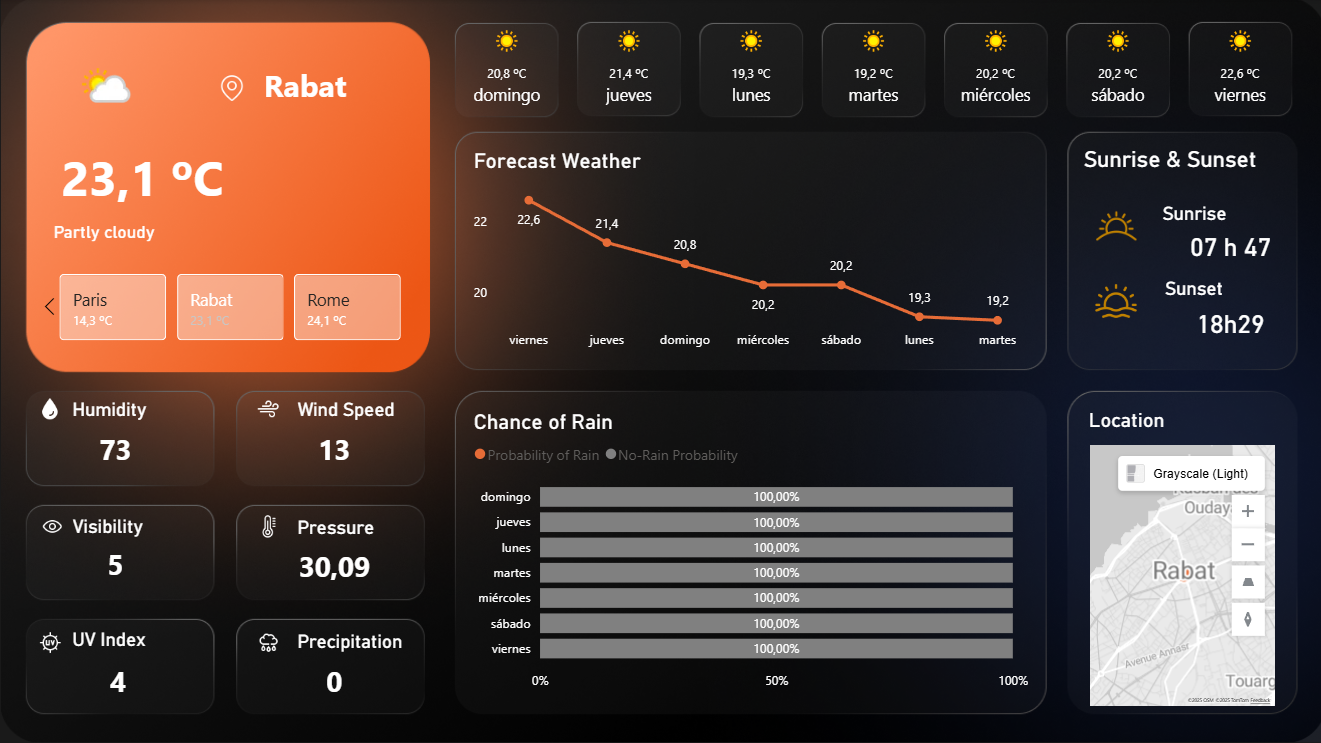

Layout of this report page (visuals, bound fields, positions):
{"tool":"powerbi","page":{"name":"Página 1","canvas":[1280,720],"ordinal":0},"visuals":[{"type":"advancedSlicerVisual","fields":{"Values":["Locations.location.name"],"Label":["_Measures.Curr_Temp_C"]},"box":[32.6,260.6,380,74.8],"z":0},{"type":"shape","box":[51.9,139.9,171.3,61.5],"z":1000},{"type":"shape","box":[51.9,214.7,171.3,26.5],"z":2000},{"type":"shape","box":[254.6,62.4,143.6,44.6],"z":3000},{"type":"image","box":[202.7,68.5,42.2,35],"z":4000},{"type":"cardVisual","fields":{"Data":["Min(Current.current.condition.icon)"]},"box":[32.6,27.7,123.1,123.1],"z":5000},{"type":"image","box":[27.4,494,45.3,31.6],"z":6000},{"type":"shape","title":"Humidity","box":[70,385.6,111.1,23.3],"z":7000},{"type":"image","box":[223.7,380.1,71.4,31.6],"z":8000},{"type":"image","box":[231.9,605.1,54.9,31.6],"z":9000},{"type":"image","box":[19.2,605.1,59,31.6],"z":10000},{"type":"image","box":[240.1,494,38.4,31.6],"z":11000},{"type":"image","box":[32.9,380.1,31.6,31.6],"z":12000},{"type":"shape","title":"Visibility","box":[70,498.1,111.1,23.3],"z":13000},{"type":"shape","title":"UV Index","box":[70,607.9,111.1,23.3],"z":14000},{"type":"shape","title":"Precipitation","box":[286.8,609.3,111.1,23.3],"z":15000},{"type":"shape","title":"Pressure","box":[286.8,499.5,111.1,23.3],"z":16000},{"type":"shape","title":"Wind Speed","box":[286.8,385.6,111.1,23.3],"z":17000},{"type":"card","fields":{"Values":["Sum(Current.current.humidity)"]},"box":[48.7,411.5,126.8,48.7],"z":18000},{"type":"card","fields":{"Values":["Sum(Current.current.wind_kph)"]},"box":[259.6,411.5,126.8,48.7],"z":19000},{"type":"card","fields":{"Values":["Sum(Current.current.vis_km)"]},"box":[48.7,522.1,126.8,48.7],"z":20000},{"type":"card","fields":{"Values":["Sum(Current.current.uv)"]},"box":[50.1,635.7,126.8,48.7],"z":21000},{"type":"card","fields":{"Values":["Sum(Current.current.precip_in)"]},"box":[259.6,635.7,126.8,48.7],"z":22000},{"type":"card","fields":{"Values":["Sum(Current.current.pressure_in)"]},"box":[259.6,525.1,126.8,48.7],"z":23000},{"type":"advancedSlicerVisual","fields":{"Values":["Forecast_Days.Day_Name"]},"box":[424.8,14.7,843.7,107.7],"z":24000},{"type":"lineChart","title":"Forecast Weather","fields":{"Category":["Forecast_Days.Day_Name"],"Y":["Sum(Forecast_Days.forecast.forecastday.day.avgtemp_c)"]},"box":[452.8,143.1,545.7,203.5],"z":25000},{"type":"shape","title":"Sunrise & Sunset","box":[1045.6,142.7,192.1,31.6],"z":26000},{"type":"shape","title":"Sunrise","box":[1122.5,196.2,111.1,23.3],"z":27000},{"type":"shape","title":"Sunset","box":[1123.8,269,111.1,23.3],"z":28000},{"type":"card","fields":{"Values":["Min(Forecast_Days.forecast.forecastday.astro.sunrise)"]},"box":[1122,217.2,131.5,43.4],"z":29000},{"type":"card","fields":{"Values":["Min(Forecast_Days.forecast.forecastday.astro.sunset)"]},"box":[1122,292,131.5,42.2],"z":30000},{"type":"image","box":[1026.7,188.2,101.3,61.5],"z":31000},{"type":"image","box":[1036.3,266.6,82,49.5],"z":32000},{"type":"hundredPercentStackedBarChart","title":"Chance of Rain","fields":{"Y":["Sum(Forecast_Days.forecast.forecastday.day.daily_chance_of_rain)","Current.Left_Value_Rain"],"Category":["Forecast_Days.Day_Name"]},"box":[452.4,395.7,545.3,279.9],"z":33000},{"type":"azureMap","fields":{"Category":["Locations.location.name"]},"box":[1047.2,425.9,188.2,261.8],"z":34000},{"type":"shape","title":"Location","box":[1050.8,395.7,153.2,22.9],"z":35000}]}

Visuals, with their boxes in screenshot pixels (x1, y1, x2, y2), scaled from the page's 1280x720 canvas onto the 1321x743 screenshot:
advancedSlicerVisual - Locations.location.name x _Measures.Curr_Temp_C: [34, 269, 426, 346]
shape: [54, 144, 230, 208]
shape: [54, 222, 230, 249]
shape: [263, 64, 411, 110]
image: [209, 71, 253, 107]
cardVisual - Min(Current.current.condition.icon): [34, 29, 161, 156]
image: [28, 510, 75, 542]
"Humidity" shape: [72, 398, 187, 422]
image: [231, 392, 305, 425]
image: [239, 624, 296, 657]
image: [20, 624, 81, 657]
image: [248, 510, 287, 542]
image: [34, 392, 67, 425]
"Visibility" shape: [72, 514, 187, 538]
"UV Index" shape: [72, 627, 187, 651]
"Precipitation" shape: [296, 629, 411, 653]
"Pressure" shape: [296, 515, 411, 540]
"Wind Speed" shape: [296, 398, 411, 422]
card - Sum(Current.current.humidity): [50, 425, 181, 475]
card - Sum(Current.current.wind_kph): [268, 425, 399, 475]
card - Sum(Current.current.vis_km): [50, 539, 181, 589]
card - Sum(Current.current.uv): [52, 656, 183, 706]
card - Sum(Current.current.precip_in): [268, 656, 399, 706]
card - Sum(Current.current.pressure_in): [268, 542, 399, 592]
advancedSlicerVisual - Forecast_Days.Day_Name: [438, 15, 1309, 126]
"Forecast Weather" lineChart: [467, 148, 1030, 358]
"Sunrise & Sunset" shape: [1079, 147, 1277, 180]
"Sunrise" shape: [1158, 202, 1273, 227]
"Sunset" shape: [1160, 278, 1274, 302]
card - Min(Forecast_Days.forecast.forecastday.astro.sunrise): [1158, 224, 1294, 269]
card - Min(Forecast_Days.forecast.forecastday.astro.sunset): [1158, 301, 1294, 345]
image: [1060, 194, 1164, 258]
image: [1069, 275, 1154, 326]
"Chance of Rain" hundredPercentStackedBarChart: [467, 408, 1030, 697]
azureMap - Locations.location.name: [1081, 440, 1275, 710]
"Location" shape: [1084, 408, 1243, 432]
